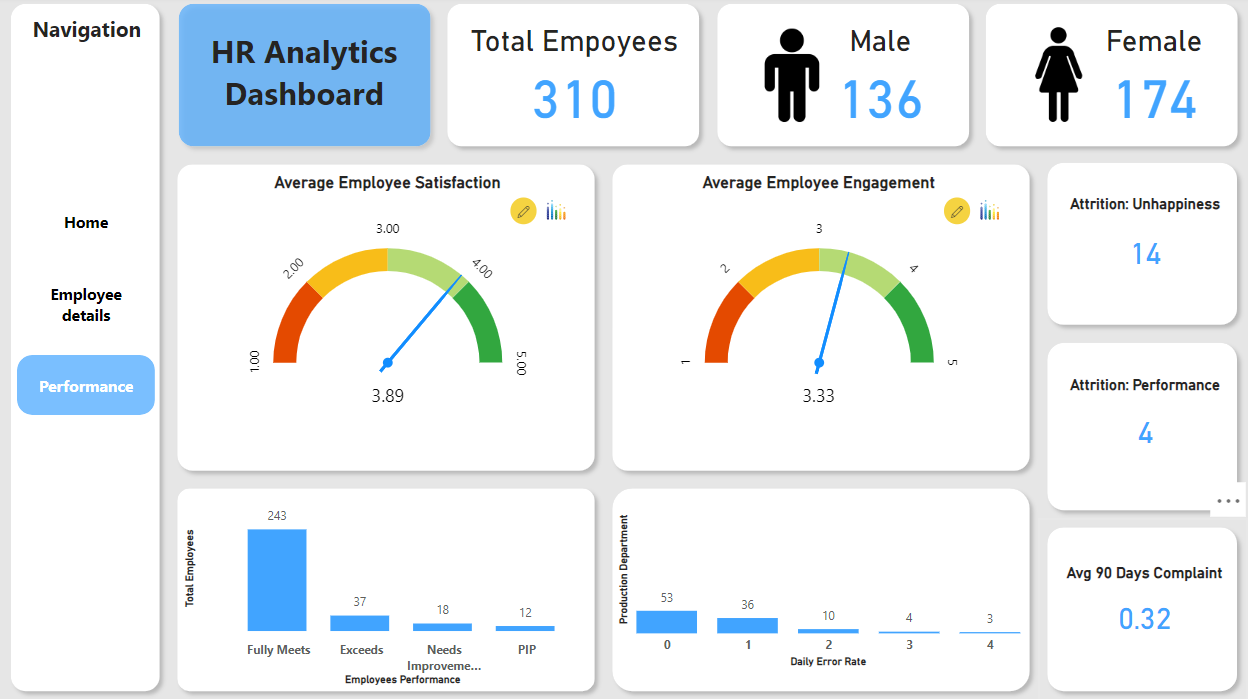

Layout of this report page (visuals, bound fields, positions):
{"tool":"powerbi","page":{"name":"Performance Details","canvas":[1280,720],"ordinal":2},"visuals":[{"type":"shape","box":[180,0,275,163.3],"z":0},{"type":"shape","box":[455,0,275,163.3],"z":1000},{"type":"shape","box":[730,0,275,163.3],"z":2000},{"type":"shape","box":[1005,0,275,163.3],"z":3000},{"type":"card","title":"Total Empoyees","fields":{"Values":["CountNonNull(HRDataset_v13.EmpID)"]},"box":[480,28.3,225,106.7],"z":4000},{"type":"shape","box":[179.1,163.8,443.9,330.7],"z":5000},{"type":"shape","box":[623.1,163.8,443.9,330.7],"z":6000},{"type":"shape","box":[179.1,494.5,443.9,225],"z":7000},{"type":"columnChart","fields":{"Category":["HRDataset_v13.PerformanceScore"],"Y":["CountNonNull(HRDataset_v13.EmpID)"]},"box":[190,506,425,202.1],"z":8000},{"type":"shape","box":[623.1,494.5,443.9,225],"z":9000},{"type":"columnChart","fields":{"Category":["production_staff.Daily Error Rate"],"Y":["CountNonNull(production_staff.Employee Name)"]},"box":[632.2,506.7,424,202.1],"z":10000},{"type":"shape","box":[1067.7,162.5,211.7,183.3],"z":11000},{"type":"shape","box":[1067.7,345.8,211.7,189],"z":12000},{"type":"shape","box":[1067.7,534.8,211.7,185.2],"z":13000},{"type":"card","title":"Avg 90 Days Complaint","fields":{"Values":["Avg(production_staff.90-day Complaints)"]},"box":[1085.4,399.6,179.1,81.1],"z":14000},{"type":"card","title":"Average Employees Age","fields":{"Values":["Avg(core_dataset.Age)"]},"box":[1085.4,212.8,179.1,81.1],"z":15000},{"type":"card","title":"Attrition: Unhappiness","fields":{"Values":["CountNonNull(HRDataset_v9.Employment Status)"]},"box":[1086.6,585.8,177.6,81.3],"z":16000},{"type":"textbox","box":[202.1,29.1,231.2,107.2],"z":17000},{"type":"shape","box":[9.2,0,169.9,719.5],"z":18000},{"type":"actionButton","box":[24.5,200.5,140.8,61.2],"z":19000},{"type":"actionButton","box":[24.5,284.7,140.8,61.2],"z":20000},{"type":"actionButton","box":[24.5,368,140.8,61.2],"z":21000},{"type":"textbox","box":[35.2,13.8,130.1,67.4],"z":22000},{"type":"card","title":"Female","fields":{"Values":["CountNonNull(HRDataset_v13.EmpID)"]},"box":[1114.5,29.1,140.8,105.6],"z":23000},{"type":"image","box":[1033.3,27.6,108.7,107.2],"z":24000},{"type":"card","title":"Male","fields":{"Values":["CountNonNull(HRDataset_v13.EmpID)"]},"box":[829.7,29.1,151.6,105.6],"z":25000},{"type":"image","box":[762.4,23,105.6,117.9],"z":26000},{"type":"advancedGauge97290A2225EA4EB5BC5C8D85F9ACA7DABETA","title":"Average Employee Engagement","fields":{"value1":["Avg(HRDataset_v13.EngagementSurvey)"],"minimum1":["Min(HRDataset_v13.EngagementSurvey)1"],"maximum1":["Max(HRDataset_v13.EngagementSurvey)2"]},"box":[639.9,180.6,405.7,300],"z":27000},{"type":"advancedGauge97290A2225EA4EB5BC5C8D85F9ACA7DABETA","title":"Average Employee Satisfaction","fields":{"value1":["Avg(HRDataset_v13.EmpSatisfaction)"],"minimum1":["Min(HRDataset_v13.EmpSatisfaction)1"],"maximum1":["Max(HRDataset_v13.EmpSatisfaction)2"]},"box":[202.1,180.6,401.1,300],"z":28000}]}

Visuals, with their boxes in screenshot pixels (x1, y1, x2, y2), scaled from the page's 1280x720 canvas onto the 1248x699 screenshot:
shape: left=176, top=0, right=444, bottom=159
shape: left=444, top=0, right=712, bottom=159
shape: left=712, top=0, right=980, bottom=159
shape: left=980, top=0, right=1247, bottom=159
"Total Empoyees" card: left=468, top=27, right=687, bottom=131
shape: left=175, top=159, right=607, bottom=480
shape: left=608, top=159, right=1040, bottom=480
shape: left=175, top=480, right=607, bottom=698
columnChart - HRDataset_v13.PerformanceScore x CountNonNull(HRDataset_v13.EmpID): left=185, top=491, right=600, bottom=687
shape: left=608, top=480, right=1040, bottom=698
columnChart - production_staff.Daily Error Rate x CountNonNull(production_staff.Employee Name): left=616, top=492, right=1030, bottom=688
shape: left=1041, top=158, right=1247, bottom=336
shape: left=1041, top=336, right=1247, bottom=519
shape: left=1041, top=519, right=1247, bottom=698
"Avg 90 Days Complaint" card: left=1058, top=388, right=1233, bottom=467
"Average Employees Age" card: left=1058, top=207, right=1233, bottom=285
"Attrition: Unhappiness" card: left=1059, top=569, right=1233, bottom=648
textbox: left=197, top=28, right=422, bottom=132
shape: left=9, top=0, right=175, bottom=698
actionButton: left=24, top=195, right=161, bottom=254
actionButton: left=24, top=276, right=161, bottom=336
actionButton: left=24, top=357, right=161, bottom=417
textbox: left=34, top=13, right=161, bottom=79
"Female" card: left=1087, top=28, right=1224, bottom=131
image: left=1007, top=27, right=1113, bottom=131
"Male" card: left=809, top=28, right=957, bottom=131
image: left=743, top=22, right=846, bottom=137
"Average Employee Engagement" advancedGauge97290A2225EA4EB5BC5C8D85F9ACA7DABETA: left=624, top=175, right=1019, bottom=467
"Average Employee Satisfaction" advancedGauge97290A2225EA4EB5BC5C8D85F9ACA7DABETA: left=197, top=175, right=588, bottom=467
